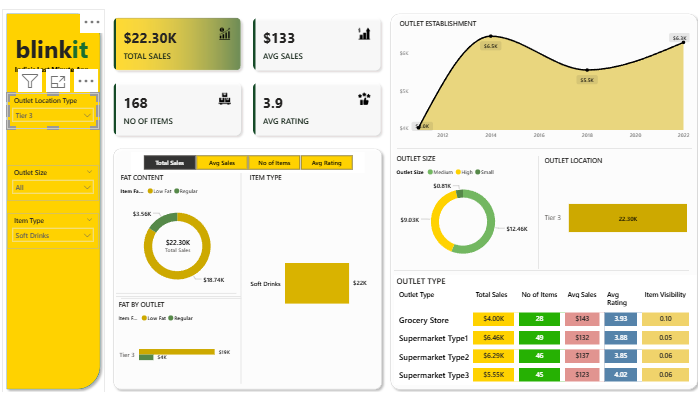

This screenshot's page, from the dashboard's own definition file:
{"tool":"powerbi","page":{"name":"Page 1","canvas":[1400,800],"ordinal":0},"visuals":[{"type":"shape","box":[0,25.7,205.8,769.8],"z":0},{"type":"textbox","box":[14.7,66.1,170.9,79],"z":1000},{"type":"textbox","box":[14.7,132.3,170.9,27.6],"z":2000},{"type":"cardVisual","fields":{"Data":["BlinkIT Grocery Data.Total Sales","BlinkIT Grocery Data.Avg Sales","BlinkIT Grocery Data.No of Items","BlinkIT Grocery Data.Avg Rating"]},"box":[205.8,25.7,569.6,270.1],"z":3000},{"type":"shape","box":[213.1,295.8,554.9,499.7],"z":4000},{"type":"donutChart","title":"FAT CONTENT","fields":{"Y":["BlinkIT Grocery Data.Total Sales"],"Category":["BlinkIT Grocery Data.Item Fat Content"]},"box":[231.5,354.6,237,248],"z":5000},{"type":"slicer","fields":{"Values":["Metrics.Metrics"]},"box":[257.2,312.3,466.7,42.3],"z":6000},{"type":"cardVisual","fields":{"Data":["BlinkIT Grocery Data.Total Sales"]},"box":[303.1,466.7,95.5,58.8],"z":7000},{"type":"clusteredBarChart","title":"FAT BY OUTLET","fields":{"Y":["BlinkIT Grocery Data.Total Sales"],"Series":["BlinkIT Grocery Data.Item Fat Content"],"Category":["BlinkIT Grocery Data.Outlet Location Type"]},"box":[227.8,608.1,240.7,167.2],"z":8000},{"type":"shape","box":[227.8,582.4,240.7,25.7],"z":9000},{"type":"shape","box":[466.7,354.6,23.9,420.7],"z":10000},{"type":"barChart","title":"ITEM TYPE","fields":{"Y":["BlinkIT Grocery Data.Total Sales"],"Category":["BlinkIT Grocery Data.Item Type"]},"box":[490.6,354.6,259.1,420.7],"z":11000},{"type":"shape","box":[768,26,632,770],"z":12000},{"type":"lineChart","title":"OUTLET ESTABLISHMENT","fields":{"Y":["BlinkIT Grocery Data.Total Sales"],"Category":["BlinkIT Grocery Data.Outlet Establishment Year"]},"box":[790,46,590,250],"z":13000},{"type":"shape","box":[237.8,592.4,240.7,25.7],"z":14000},{"type":"shape","box":[790,298,590,14],"z":15000},{"type":"donutChart","title":"OUTLET SIZE","fields":{"Y":["BlinkIT Grocery Data.Total Sales"],"Category":["BlinkIT Grocery Data.Outlet Size"]},"box":[784,316,276,226],"z":16000},{"type":"shape","box":[1062,320,22,226],"z":17000},{"type":"funnel","title":"OUTLET LOCATION","fields":{"Category":["BlinkIT Grocery Data.Outlet Location Type"],"Y":["Sum(BlinkIT Grocery Data.Sales)"]},"box":[1080,320,300,230],"z":18000},{"type":"shape","box":[784,542,590,14],"z":19000},{"type":"shape","box":[228,594,250,14],"z":20000},{"type":"pivotTable","title":"OUTLET TYPE","fields":{"Rows":["BlinkIT Grocery Data.Outlet Type"],"Values":["BlinkIT Grocery Data.Total Sales","BlinkIT Grocery Data.No of Items","BlinkIT Grocery Data.Avg Sales","BlinkIT Grocery Data.Avg Rating","Avg(BlinkIT Grocery Data.Item Visibility)"]},"box":[784,558,605,220],"z":21000},{"type":"slicer","fields":{"Values":["BlinkIT Grocery Data.Outlet Location Type"]},"box":[10,194,184,72],"z":22000},{"type":"slicer","fields":{"Values":["BlinkIT Grocery Data.Outlet Size"]},"box":[10,338,184,72],"z":23000},{"type":"slicer","fields":{"Values":["BlinkIT Grocery Data.Item Type"]},"box":[10,434,184,72],"z":24000}]}

Visuals, with their boxes in screenshot pixels (x1, y1, x2, y2), scaled from the page's 1400x800 canvas onto the 700x394 screenshot:
shape: l=0, t=13, r=103, b=392
textbox: l=7, t=33, r=93, b=71
textbox: l=7, t=65, r=93, b=79
cardVisual - BlinkIT Grocery Data.Total Sales x BlinkIT Grocery Data.Avg Sales: l=103, t=13, r=388, b=146
shape: l=107, t=146, r=384, b=392
"FAT CONTENT" donutChart: l=116, t=175, r=234, b=297
slicer - Metrics.Metrics: l=129, t=154, r=362, b=175
cardVisual - BlinkIT Grocery Data.Total Sales: l=152, t=230, r=199, b=259
"FAT BY OUTLET" clusteredBarChart: l=114, t=299, r=234, b=382
shape: l=114, t=287, r=234, b=299
shape: l=233, t=175, r=245, b=382
"ITEM TYPE" barChart: l=245, t=175, r=375, b=382
shape: l=384, t=13, r=699, b=392
"OUTLET ESTABLISHMENT" lineChart: l=395, t=23, r=690, b=146
shape: l=119, t=292, r=239, b=304
shape: l=395, t=147, r=690, b=154
"OUTLET SIZE" donutChart: l=392, t=156, r=530, b=267
shape: l=531, t=158, r=542, b=269
"OUTLET LOCATION" funnel: l=540, t=158, r=690, b=271
shape: l=392, t=267, r=687, b=274
shape: l=114, t=293, r=239, b=299
"OUTLET TYPE" pivotTable: l=392, t=275, r=694, b=383
slicer - BlinkIT Grocery Data.Outlet Location Type: l=5, t=96, r=97, b=131
slicer - BlinkIT Grocery Data.Outlet Size: l=5, t=166, r=97, b=202
slicer - BlinkIT Grocery Data.Item Type: l=5, t=214, r=97, b=249
